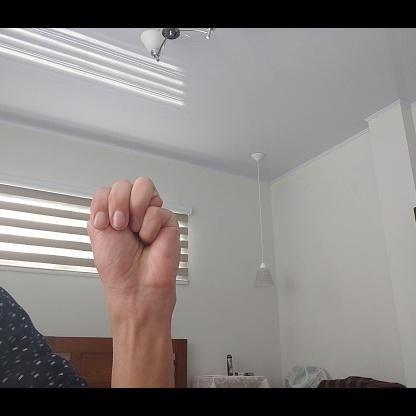M: (85, 175, 185, 296)
